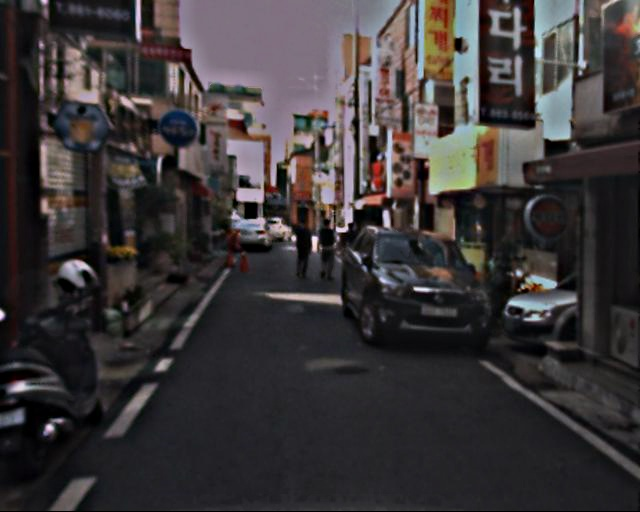person: (312, 216, 339, 283), (287, 218, 314, 283), (337, 220, 363, 283)
